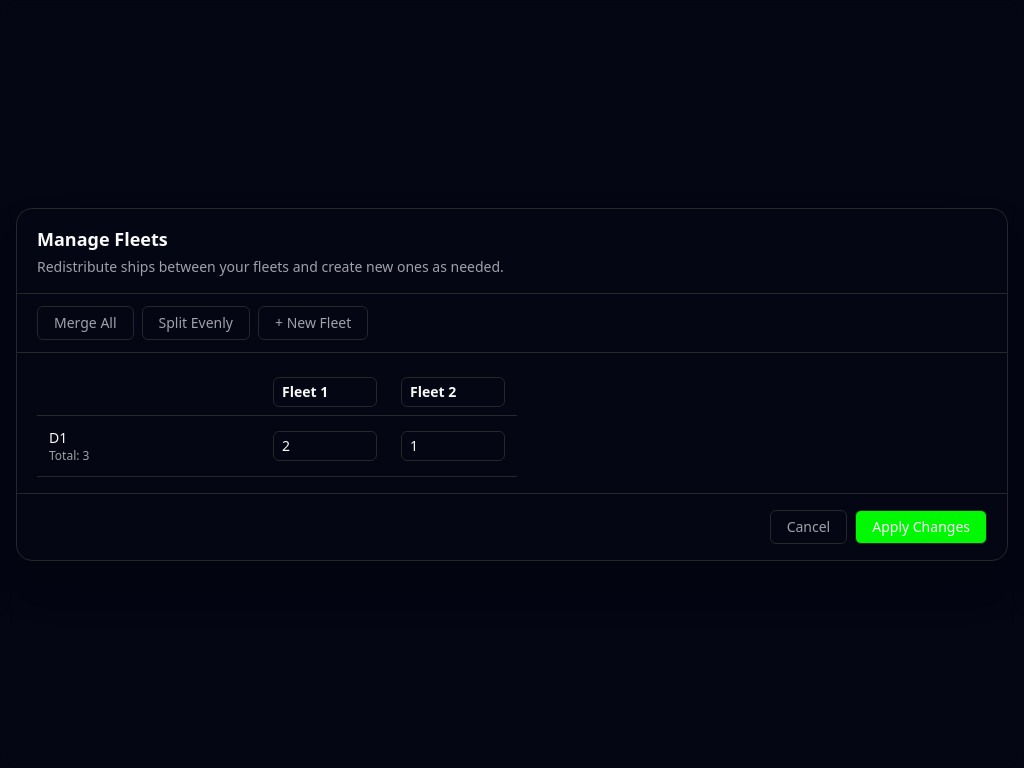
FleetComposer › Apply disabled when row totals invalid
Replace the text in the number field named "cell-0-0" with "0": (325, 446) left=273, top=430, right=377, bottom=460
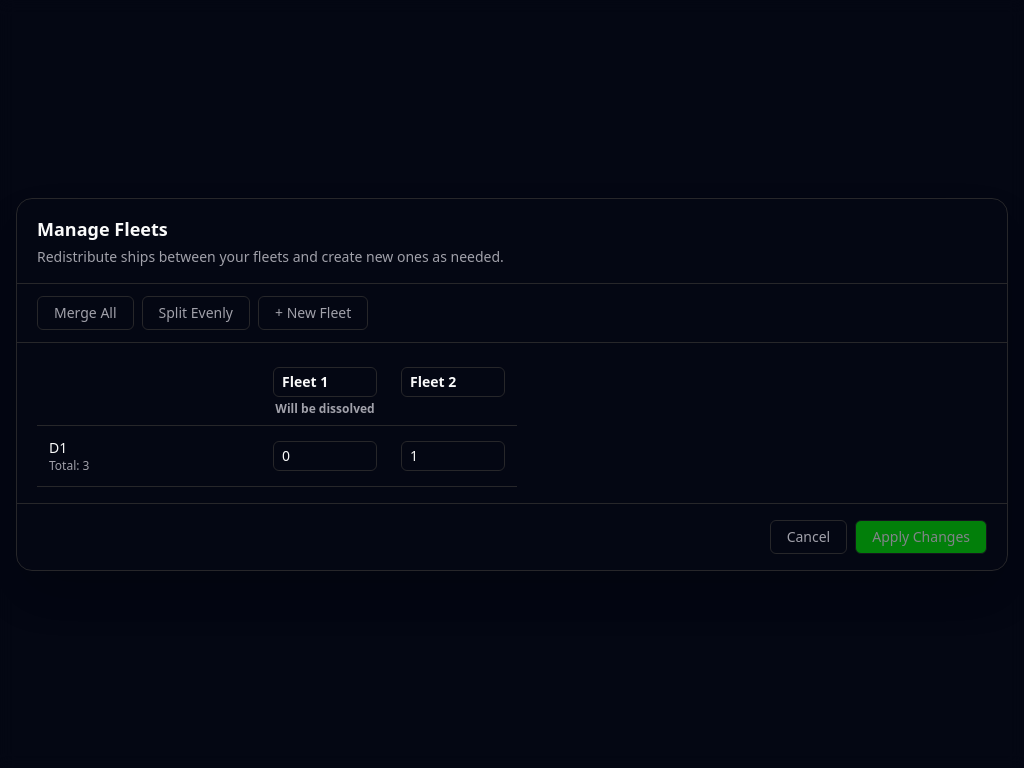
expect the button "Apply Changes" is disabled: met, box left=855, top=520, right=987, bottom=554
